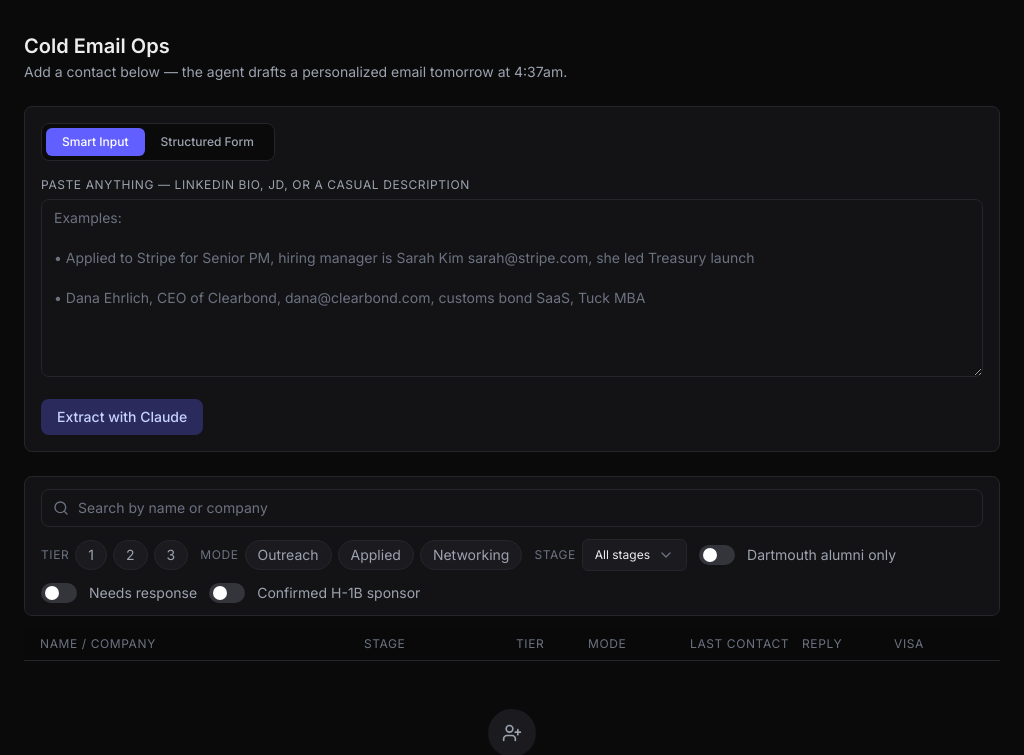
Scenario: App shell › toggles to Structured Form mode
This screenshot has width=1024, height=755.
Click the button "Structured Form" at x=207, y=142, box [145, 128, 270, 156]
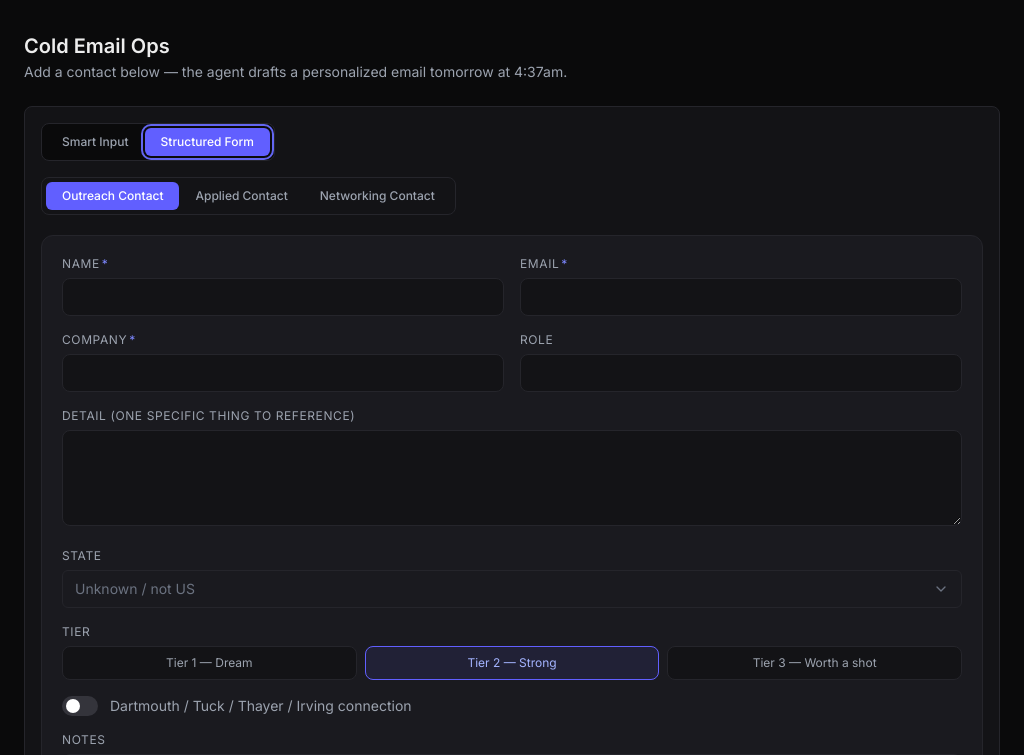
expect the field with placeholder "Examples:" is not shown: met
expect the button "Outreach Contact" is shown: met, box [46, 182, 180, 210]
